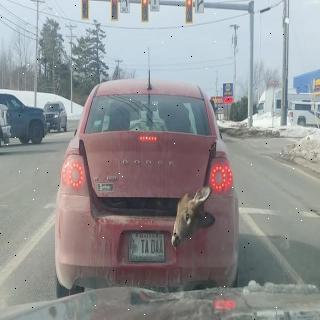license: (130, 233, 166, 263)
